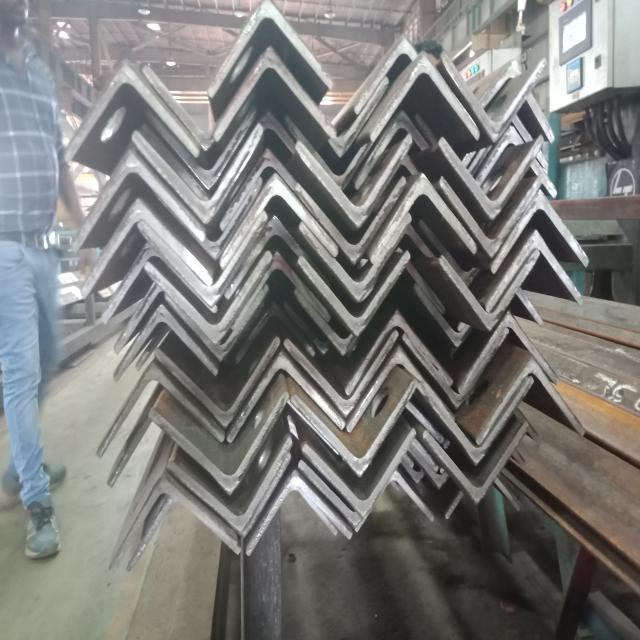metal-angles: (148, 390, 291, 494), (73, 148, 206, 254), (64, 59, 200, 161), (78, 198, 212, 301), (110, 473, 241, 574), (132, 123, 262, 224), (290, 379, 419, 478), (97, 360, 225, 459), (166, 436, 293, 535), (208, 2, 334, 99), (138, 213, 269, 306), (144, 251, 273, 344), (213, 46, 336, 143), (155, 336, 281, 429), (220, 173, 338, 270), (297, 134, 413, 227), (228, 353, 346, 443), (301, 429, 417, 518), (300, 212, 413, 301), (285, 331, 400, 418), (440, 50, 547, 143), (295, 177, 408, 265), (345, 307, 455, 397), (476, 357, 587, 446), (370, 173, 478, 264), (370, 53, 481, 141), (102, 242, 218, 324), (298, 251, 411, 335), (146, 106, 257, 190), (154, 177, 262, 262), (246, 471, 352, 557), (434, 377, 534, 466), (226, 216, 332, 299), (438, 135, 544, 218), (441, 174, 543, 259), (403, 327, 510, 408), (425, 422, 529, 504), (458, 311, 562, 392), (491, 191, 590, 274), (440, 249, 540, 331), (164, 284, 270, 361), (115, 304, 218, 382), (485, 231, 584, 312), (347, 346, 439, 433), (231, 251, 331, 331), (284, 115, 375, 188), (220, 148, 298, 231), (354, 109, 430, 190), (350, 34, 417, 114), (234, 303, 315, 365), (415, 283, 474, 346), (476, 126, 524, 183)
